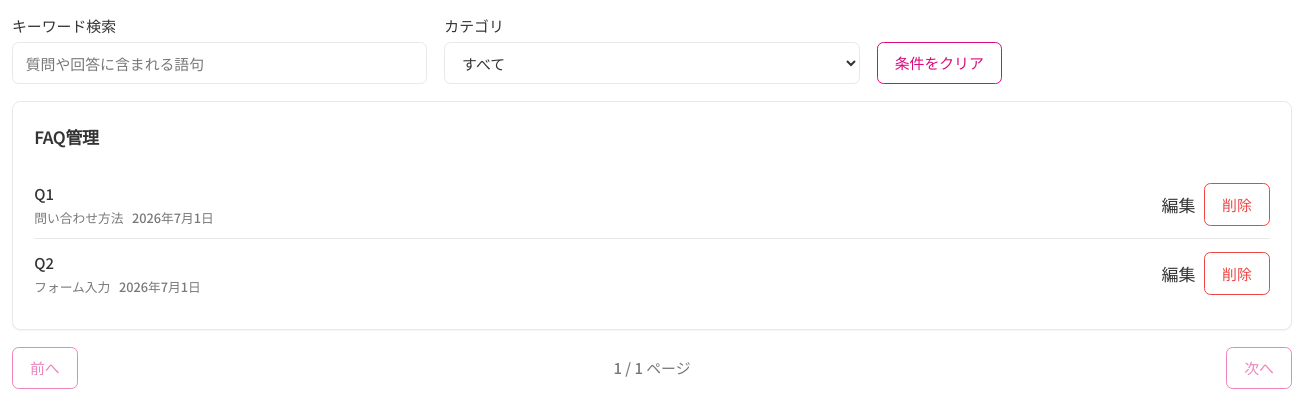
Test: FaqManagementListClient › カテゴリで絞り込む
Select "フォーム入力" in the dropdown labelled "カテゴリ" at (652, 63), box [444,42,860,84]
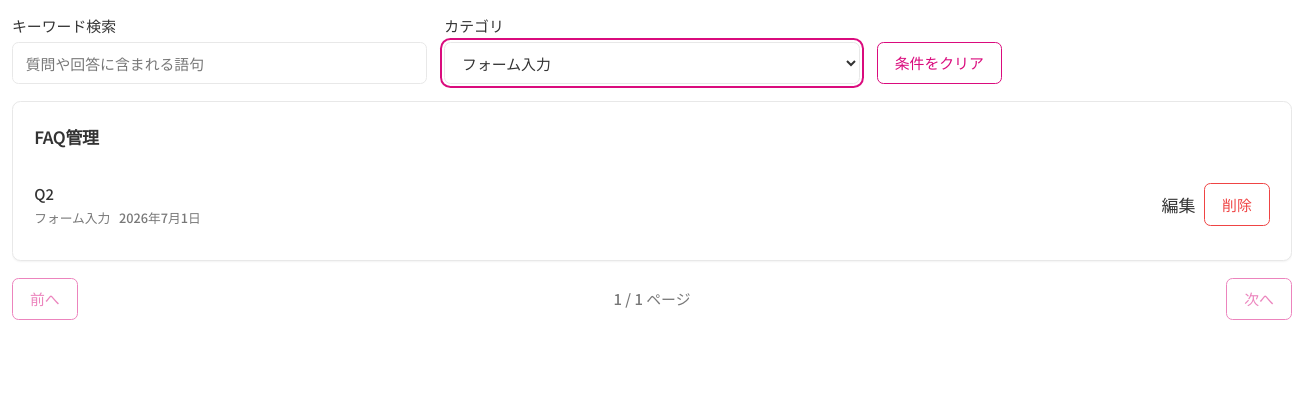
Expected: the text "Q2" is shown, [34,183,54,204]
Result: the text "Q1" is gone
